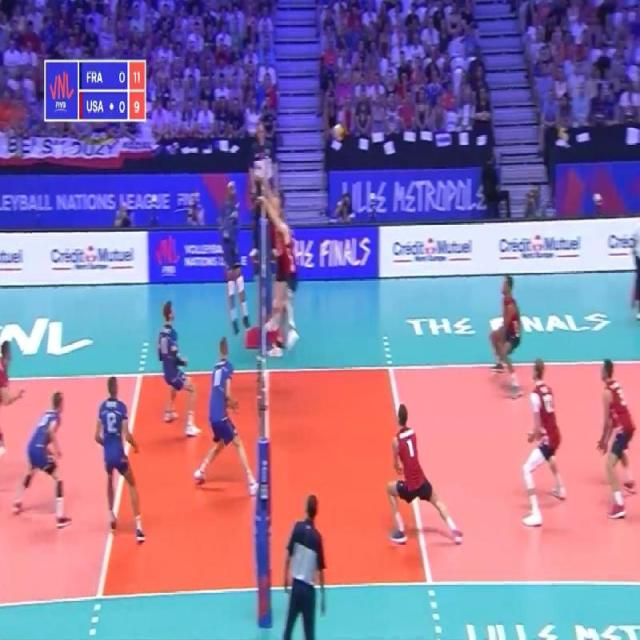volleyball: (334, 124, 343, 140)
